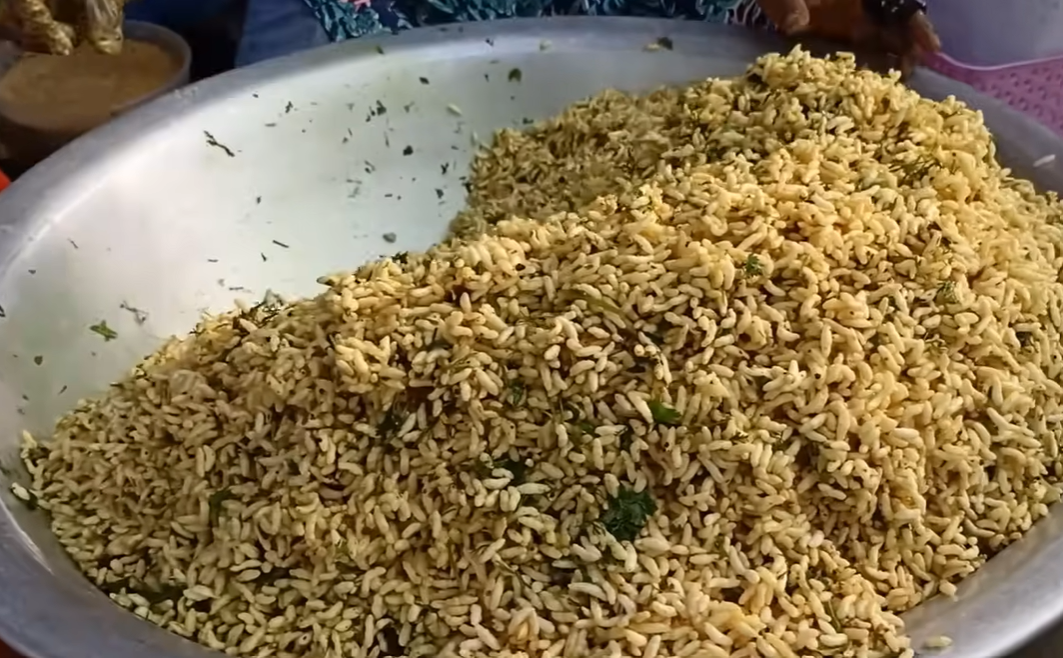chatpate: (219, 133, 996, 599)
